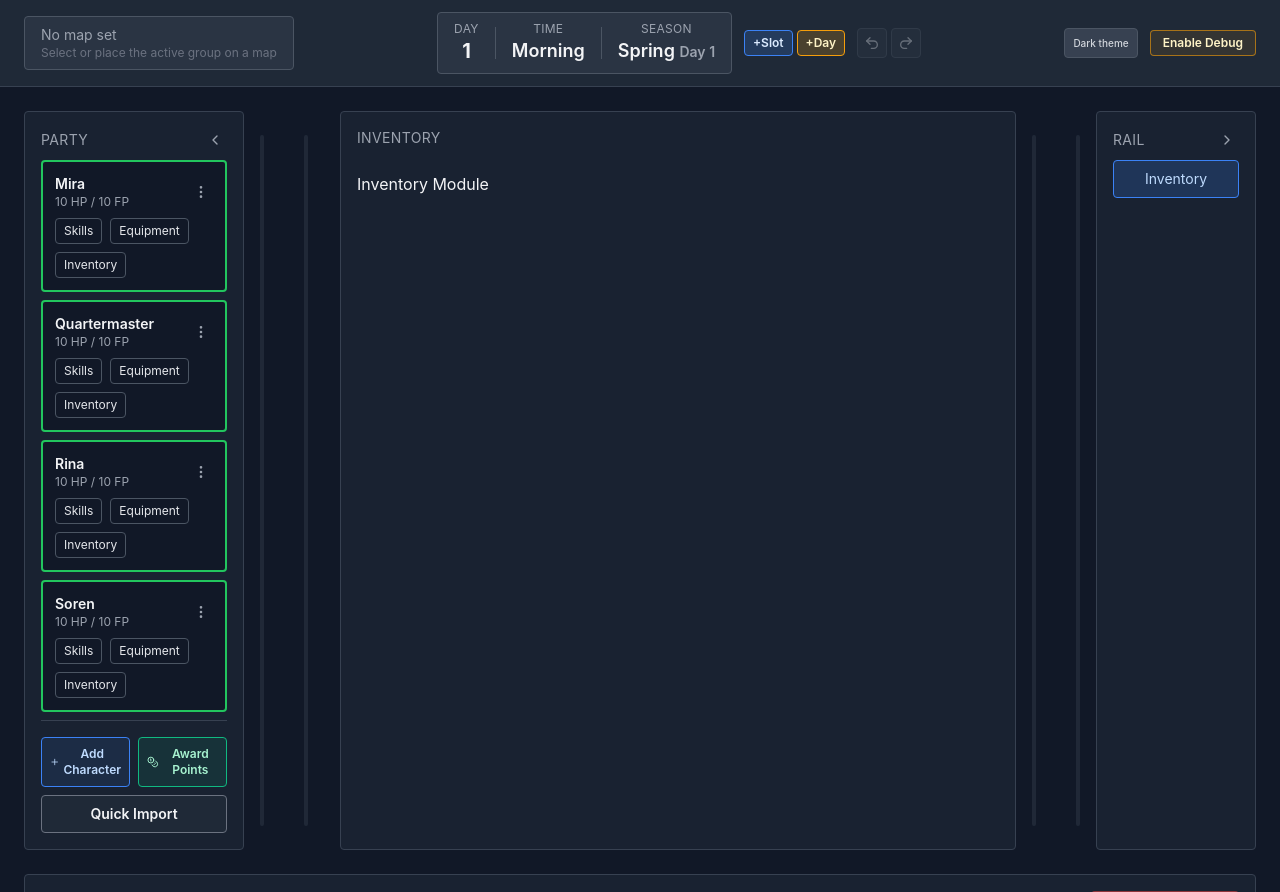
Test: UnifiedShell time header › advances time when GM mode is enabled
The width and height of the screenshot is (1280, 892).
Expected: the element with test id "time-display" shows "Day", [454,21,479,36]
Expected: the element with test id "time-display" shows "1", [462,39,471,63]
Click the button with test id "advance-slot-compact" at (768, 43), box [744,30,793,56]
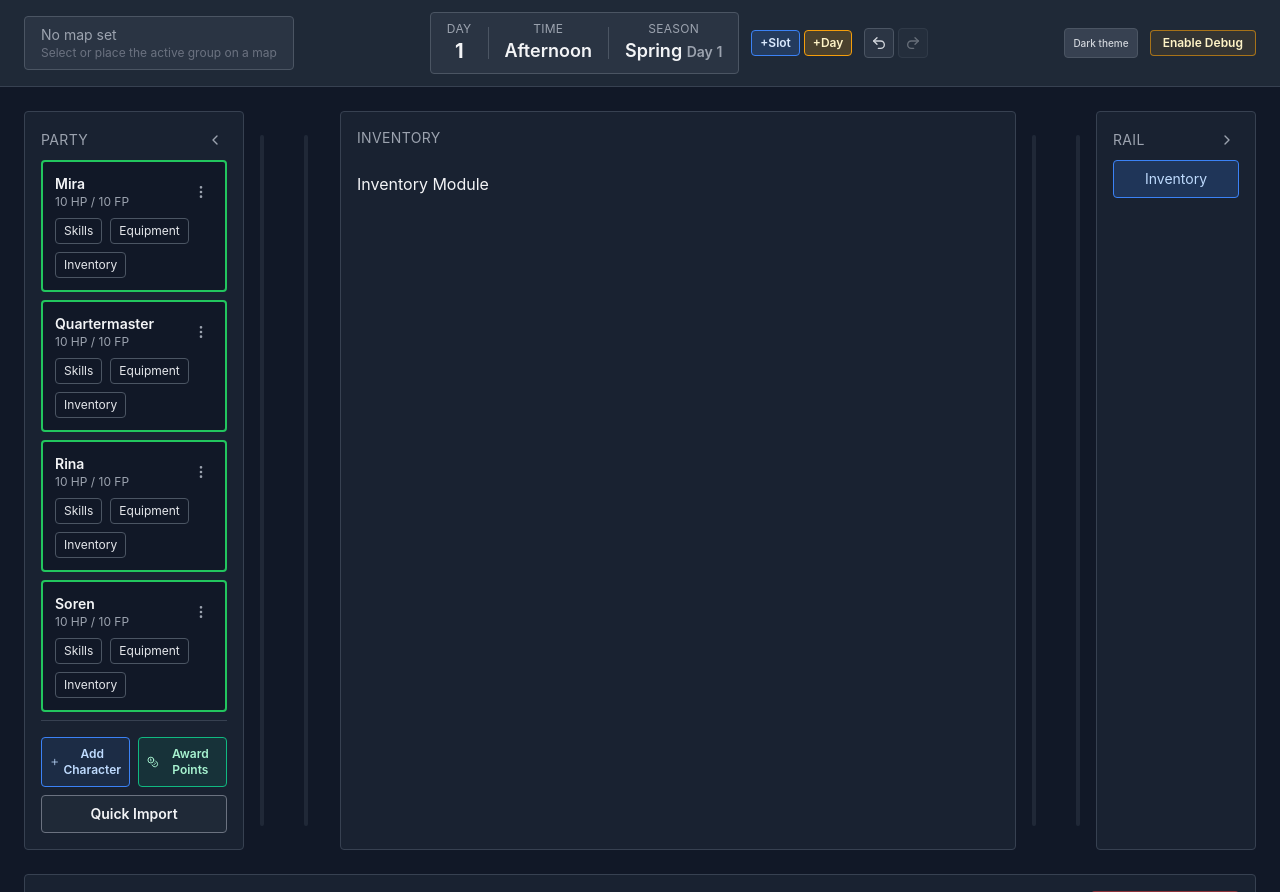
Now the element with test id "time-display" shows "Afternoon", box [504,40,592,61]
